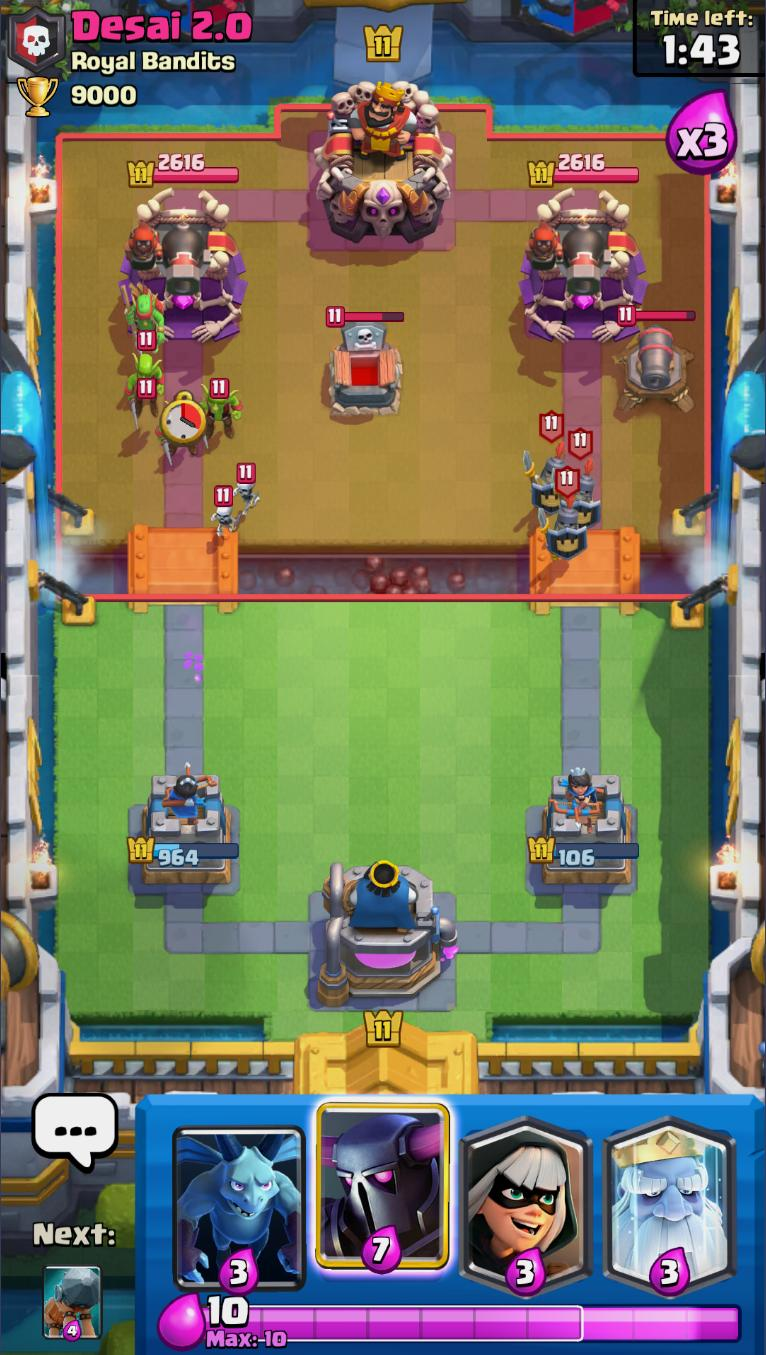BanditDeck: (456, 1096, 597, 1293)
BattleRamNext: (41, 1261, 101, 1346)
Cannon: (616, 304, 697, 419)
Cannoneer: (524, 214, 609, 300), (127, 216, 207, 300)
Elixir: (203, 1296, 743, 1346)
EnemyTower: (121, 187, 250, 343), (520, 189, 650, 343)
Goblin: (124, 349, 166, 424), (199, 376, 244, 441), (159, 416, 199, 463)
Guards: (520, 411, 570, 517), (543, 466, 590, 560), (563, 429, 604, 531)
KingTower: (314, 77, 456, 246)
MinionsDeck: (167, 1094, 313, 1294)
MyKingTower: (319, 860, 457, 1011)
MyPrincessTower: (527, 774, 641, 890), (127, 776, 241, 890)
MyPrincessTowerHP: (127, 833, 241, 869), (526, 836, 641, 869)
PekkaDeck: (310, 1094, 456, 1299)
RoyaleGhostDeck: (596, 1096, 741, 1293)
Skeleton: (211, 486, 246, 541), (233, 461, 261, 516)
SpearGoblin: (121, 281, 169, 351)
Tombstone: (320, 303, 409, 423)
TowerPrincessHP: (129, 153, 241, 189), (529, 153, 640, 189)
